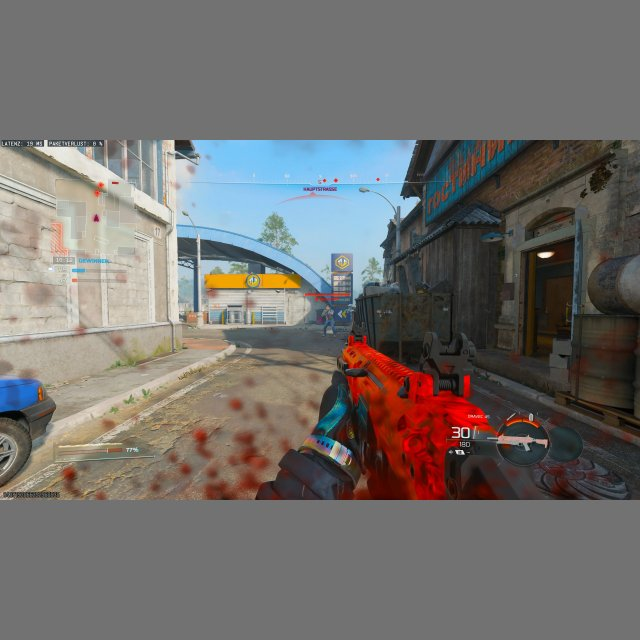player: (320, 306, 336, 337)
